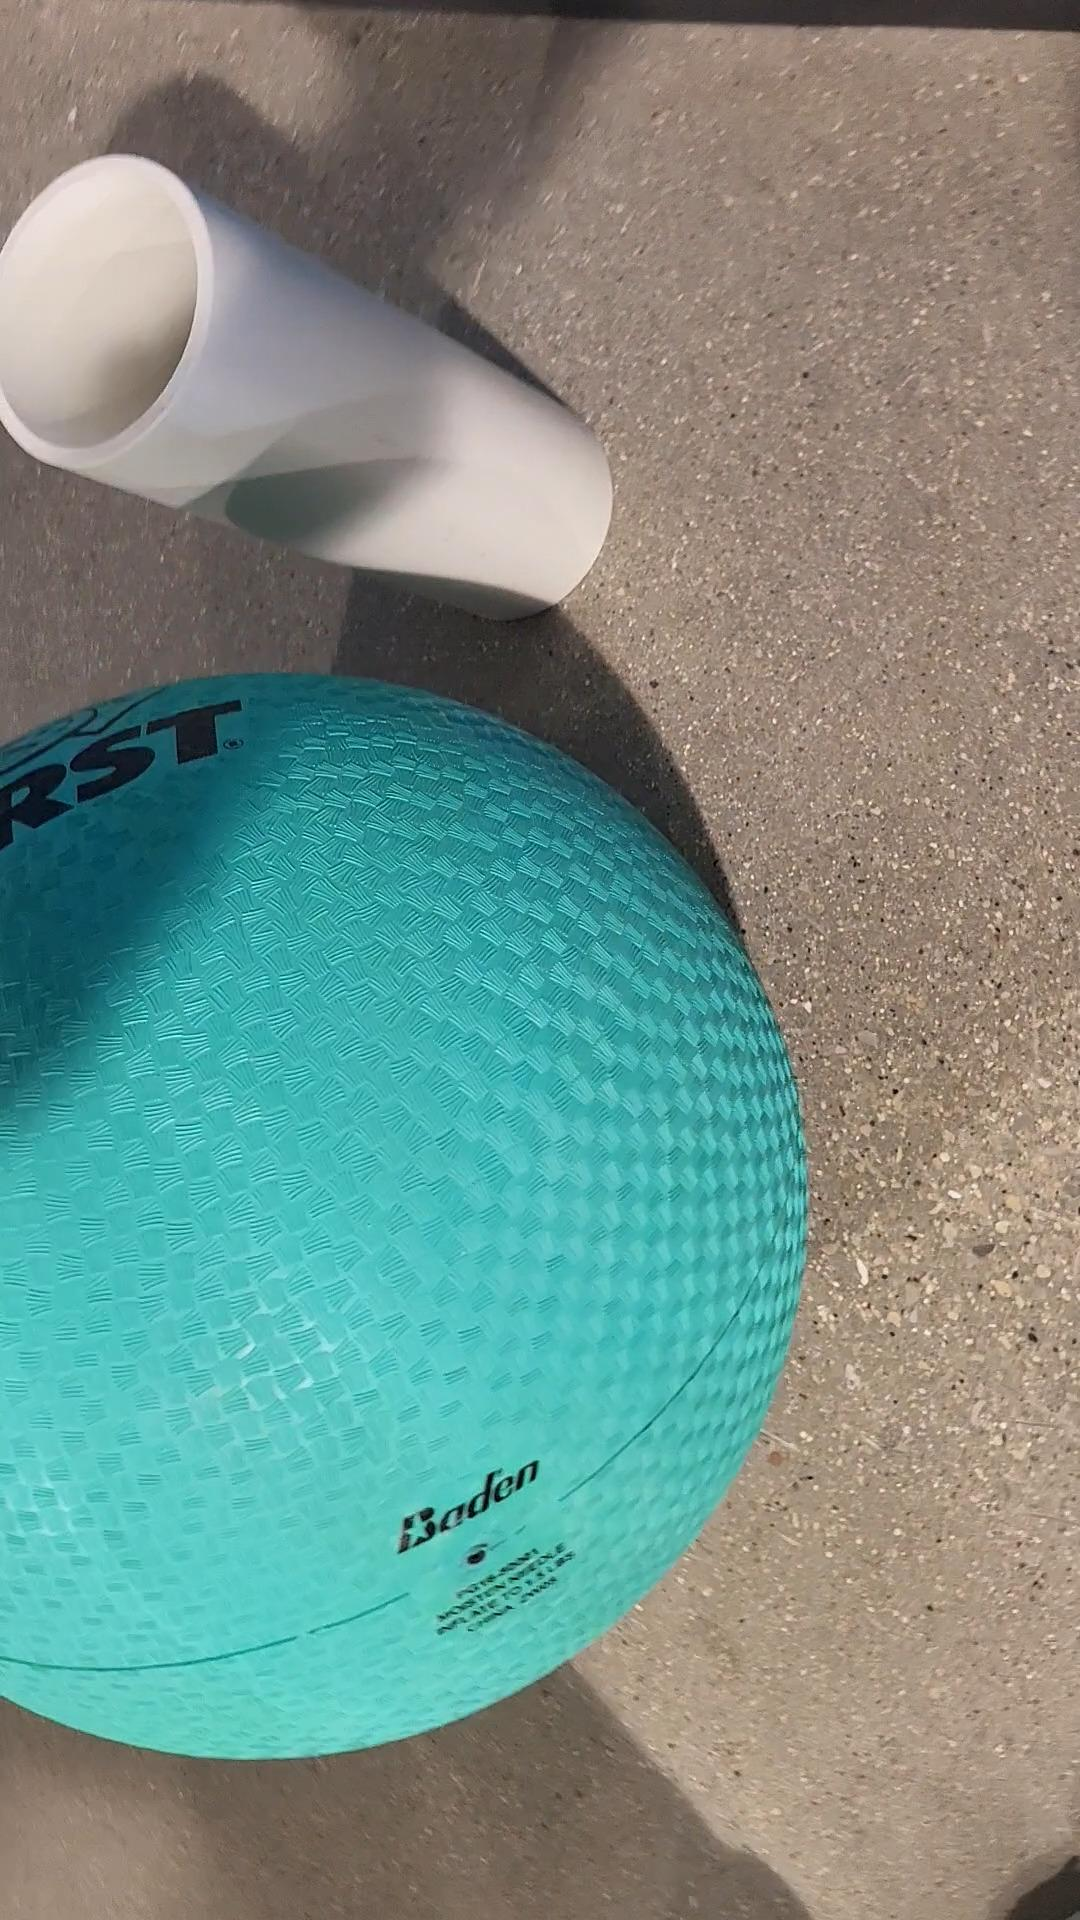algae: (0, 647, 829, 1767)
coral: (0, 154, 624, 633)
